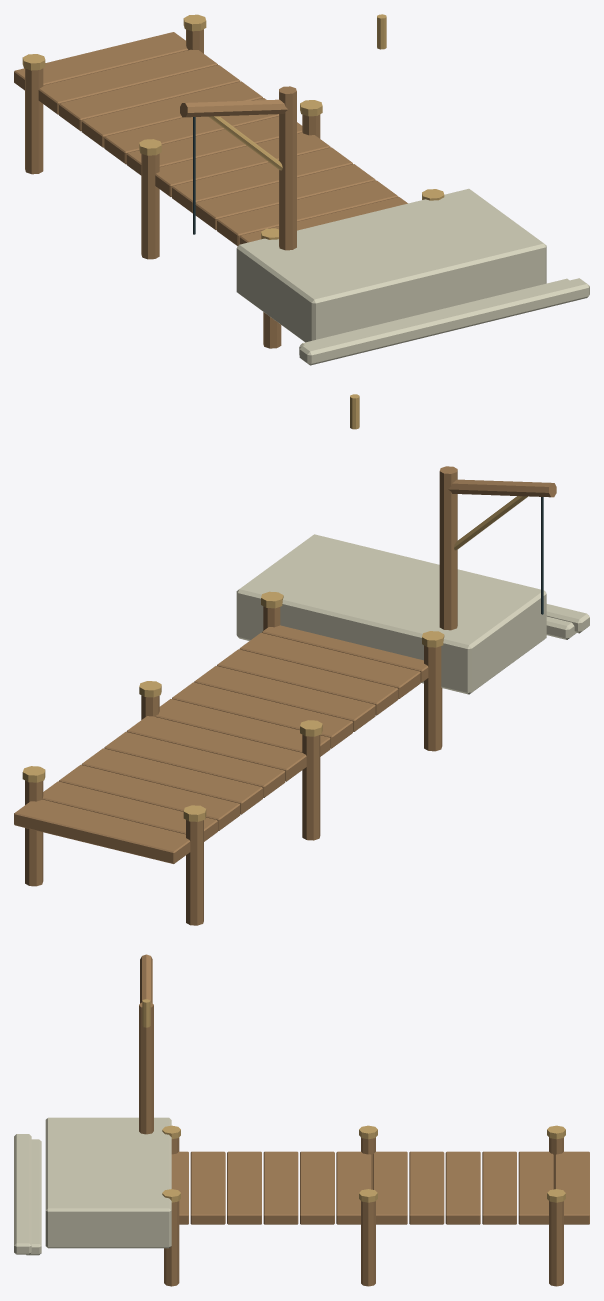
Rendered from level_17.glb.
3 renders of one model, top to bottom at view 1: azimuth 30°, elevation 25°; view 2: azimuth 150°, elevation 25°; view 3: azimuth 270°, elevation 25°, orthographic. The views are drawn at different scales.
Visible parts, largest first — view 1: dock — level 17; view 2: dock — level 17; view 3: dock — level 17.
Boxes of the visible parts, x1,y1,x2,y2 form: dock — level 17: (14, 14, 589, 365); dock — level 17: (14, 394, 589, 925); dock — level 17: (14, 954, 589, 1286).
Bounding box in the file's own units: 4.84 × 4.48 × 9.13.
